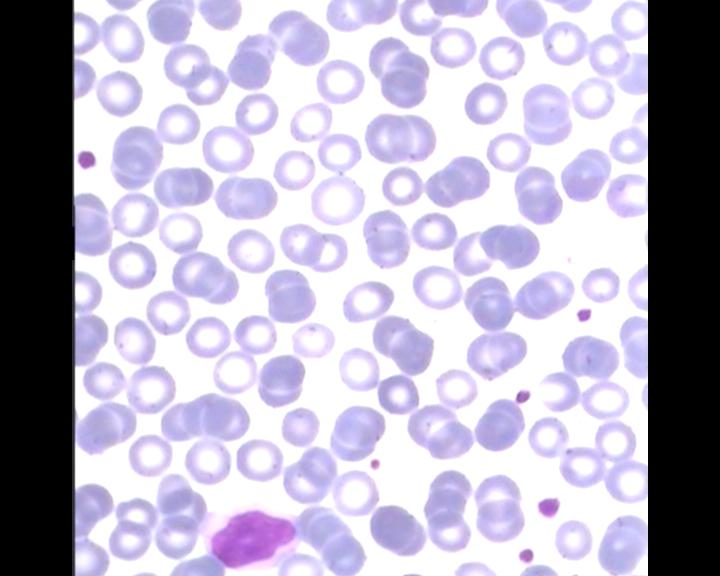mono: (191, 499, 304, 570)
